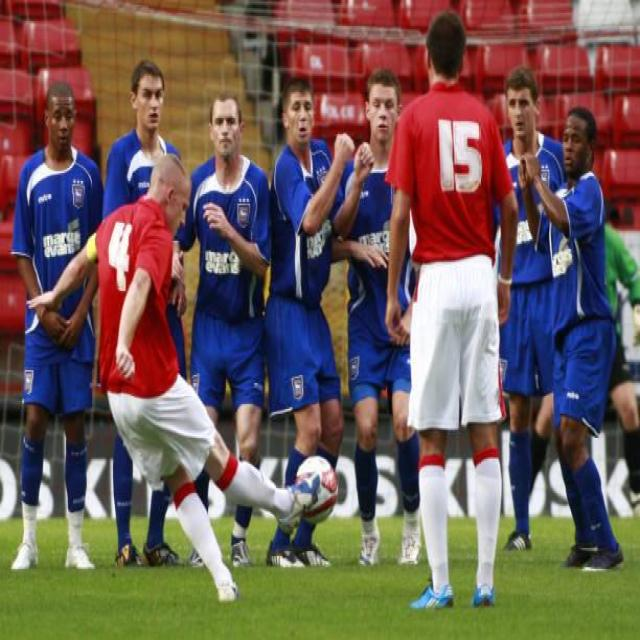ball: (293, 452, 341, 519)
player: (80, 162, 275, 593), (392, 10, 512, 617), (532, 103, 628, 582), (12, 86, 104, 580), (262, 72, 352, 570), (339, 51, 418, 574), (496, 65, 572, 567), (184, 99, 271, 504), (100, 60, 188, 204)
